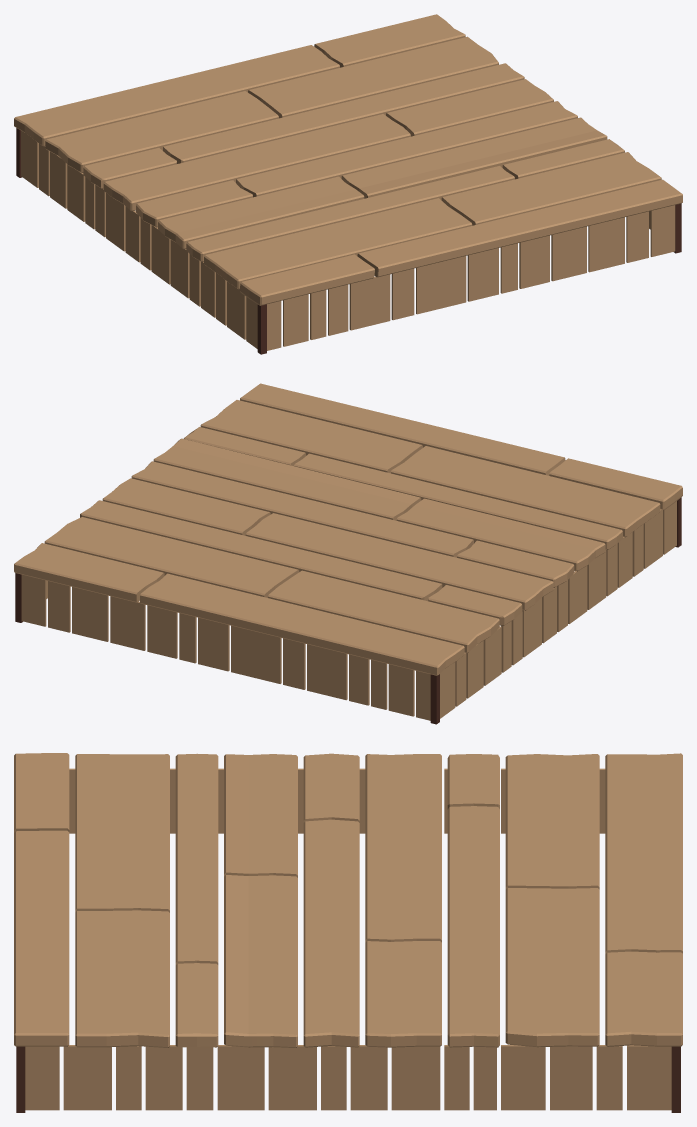
The model's file is foundation-e.glb.
The picture shows the model from 3 angles, top to bottom: view 1: azimuth 30°, elevation 25°; view 2: azimuth 150°, elevation 25°; view 3: azimuth 270°, elevation 25°; orthographic projection. The views are drawn at different scales.
Visible parts, largest first — view 1: Foundation E (×2); view 2: Foundation E (×2); view 3: Foundation E (×2).
Part boxes in pixels (bbox=[...]): Foundation E (×2): bbox=[14, 14, 682, 354]; Foundation E (×2): bbox=[14, 383, 682, 724]; Foundation E (×2): bbox=[14, 753, 682, 1112].
Bounding box in the file's own units: 3.3 × 0.4442 × 3.3.
